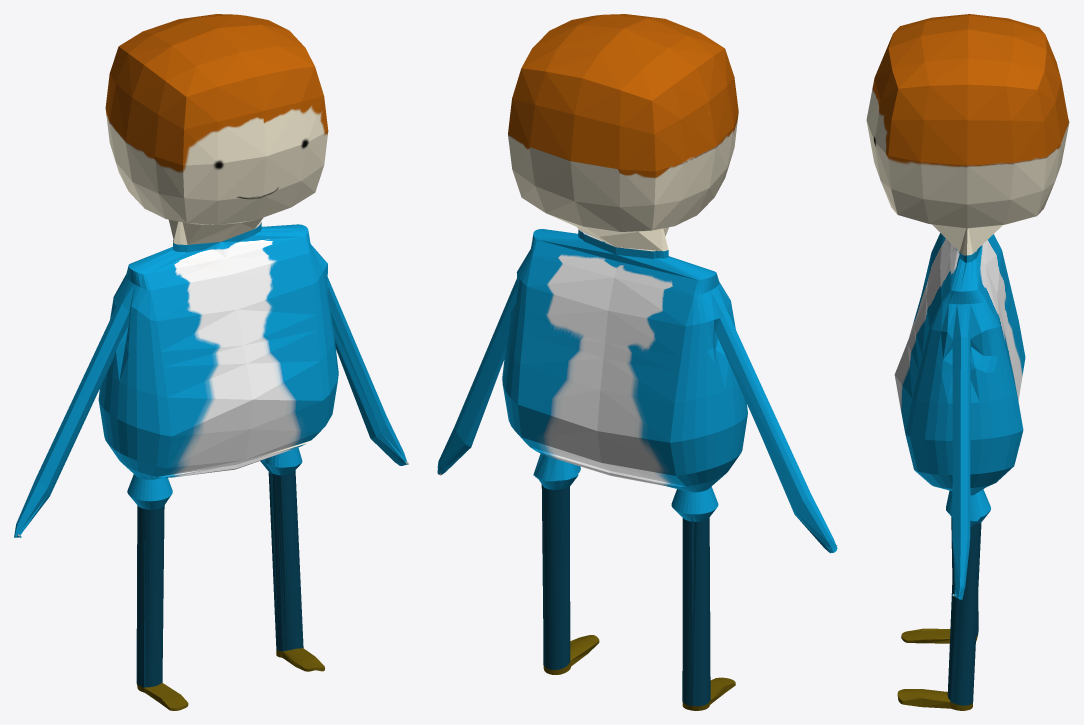
File: player_standing.obj
3 renders of one model, left to right at view 1: azimuth 30°, elevation 25°; view 2: azimuth 150°, elevation 25°; view 3: azimuth 270°, elevation 25°, orthographic. The views are drawn at different scales.
Parts seen in each view (by area): view 1: Cylinder_Cylinder.001; view 2: Cylinder_Cylinder.001; view 3: Cylinder_Cylinder.001.
Part boxes in pixels (box(x1,y1,x2,y2)): Cylinder_Cylinder.001: box(14, 14, 408, 710); Cylinder_Cylinder.001: box(437, 14, 837, 710); Cylinder_Cylinder.001: box(866, 14, 1069, 710).
Bounding box in the file's own units: 3.13 × 4.93 × 1.41.
